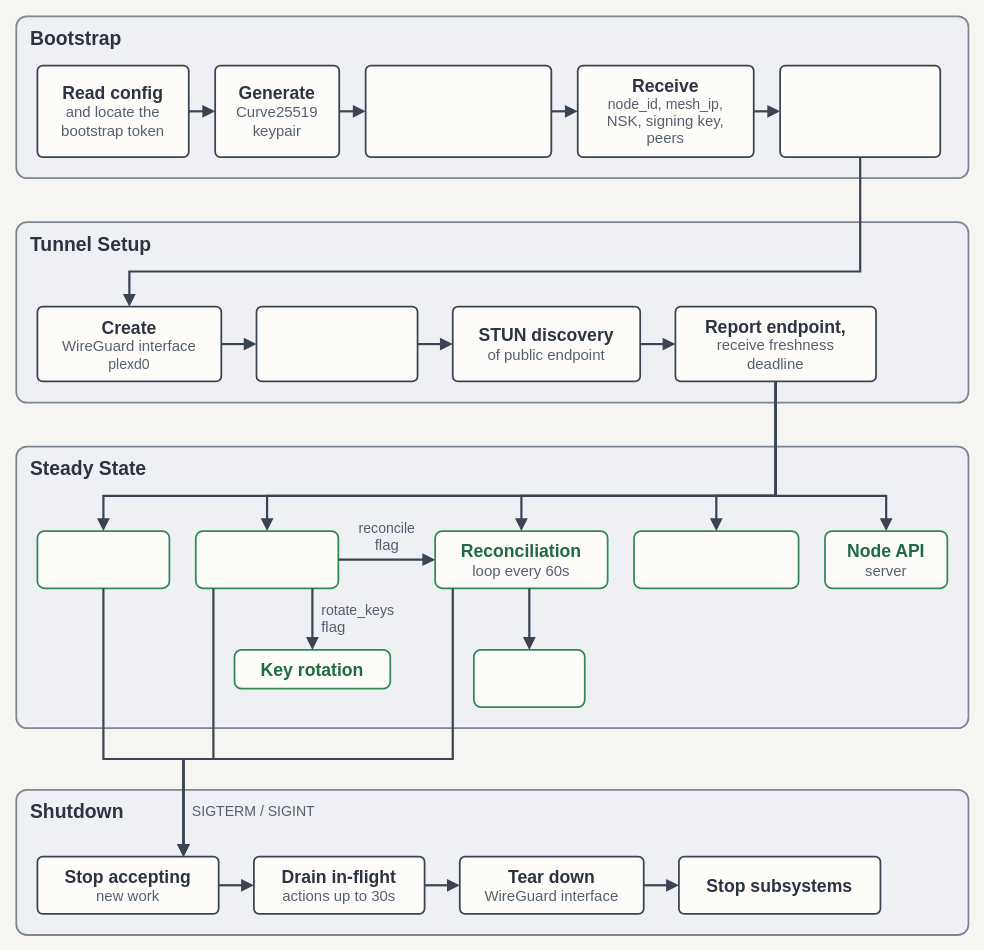
This 984x950 diagram has some shape labels left out. The shapes that lost their labels are listed below. From the top down, each one's box as (x1, y1, x2, y2) in pixels, then its label:
(364, 64, 552, 158): POST /v1/register with token + public key
(779, 64, 941, 158): Delete token from disk
(255, 305, 418, 382): Add peers with public keys, PSKs, allowed IPs
(36, 530, 170, 589): SSE event stream
(194, 530, 339, 589): Heartbeat loop every 30s
(633, 530, 799, 589): Observability uploads
(473, 649, 585, 708): Action dispatcher
